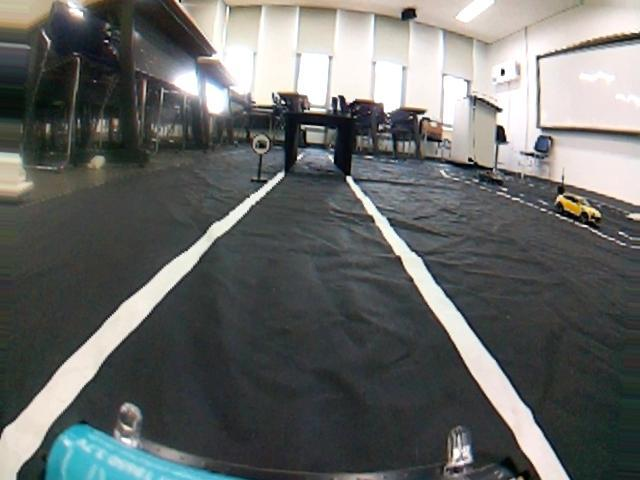sign_tunnel: (244, 124, 276, 165)
straight: (8, 220, 627, 470)
